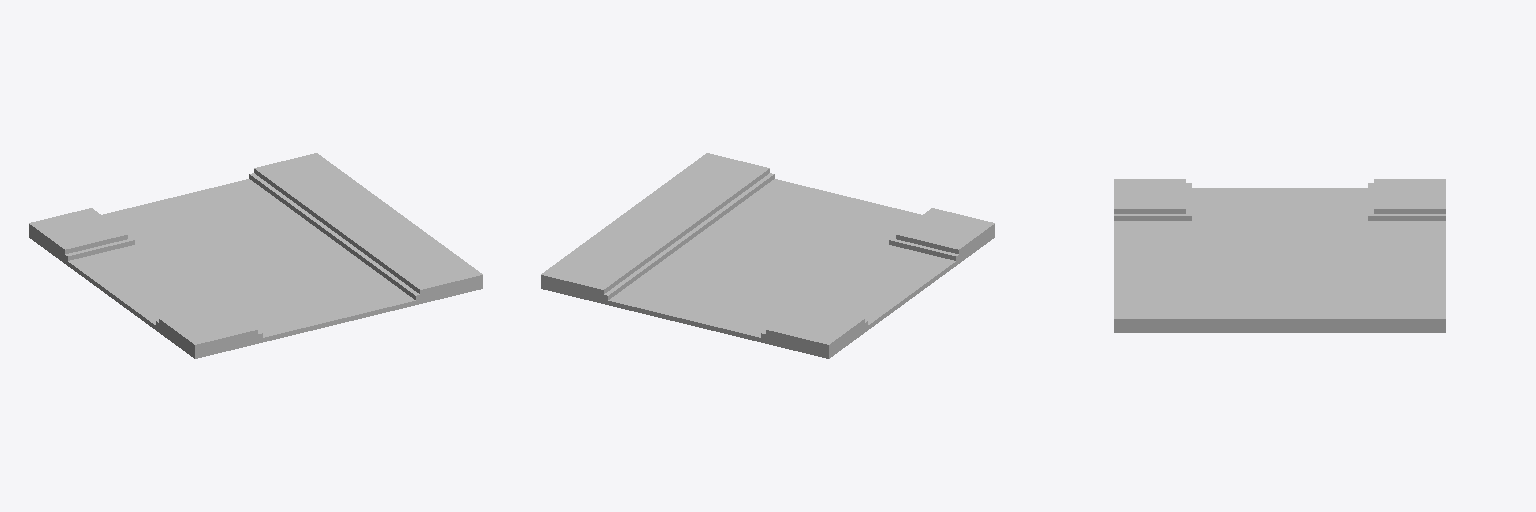
File: road_intersection_3.obj
3 views of the same model, side by side, from view 1: azimuth 30°, elevation 25°; view 2: azimuth 150°, elevation 25°; view 3: azimuth 270°, elevation 25° (orthographic).
Visible parts, largest first — view 1: object 1; view 2: object 1; view 3: object 1.
Boxes of the visible parts, x1=… form: object 1: x1=29, y1=153, x2=482, y2=358; object 1: x1=541, y1=153, x2=994, y2=358; object 1: x1=1114, y1=179, x2=1445, y2=332.
Size of the model in its own units: 6.4 by 0.3 by 6.4.